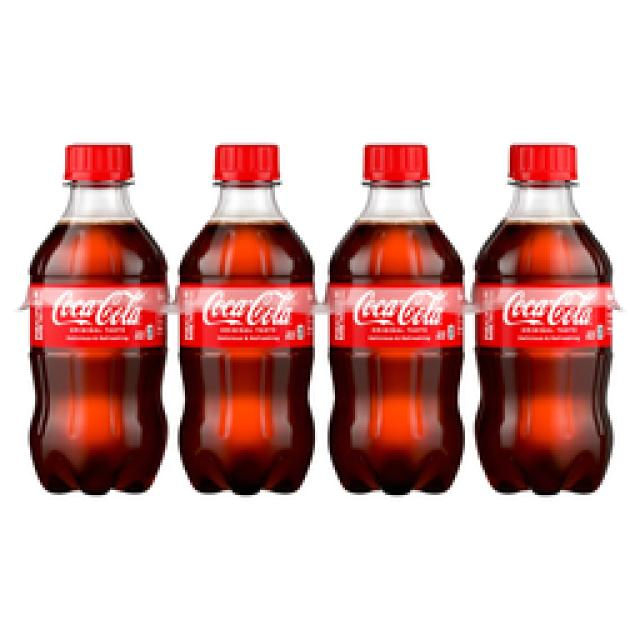plastic_soda_bottles: (472, 142, 618, 500), (28, 144, 170, 500), (176, 142, 313, 500), (328, 145, 466, 499)
